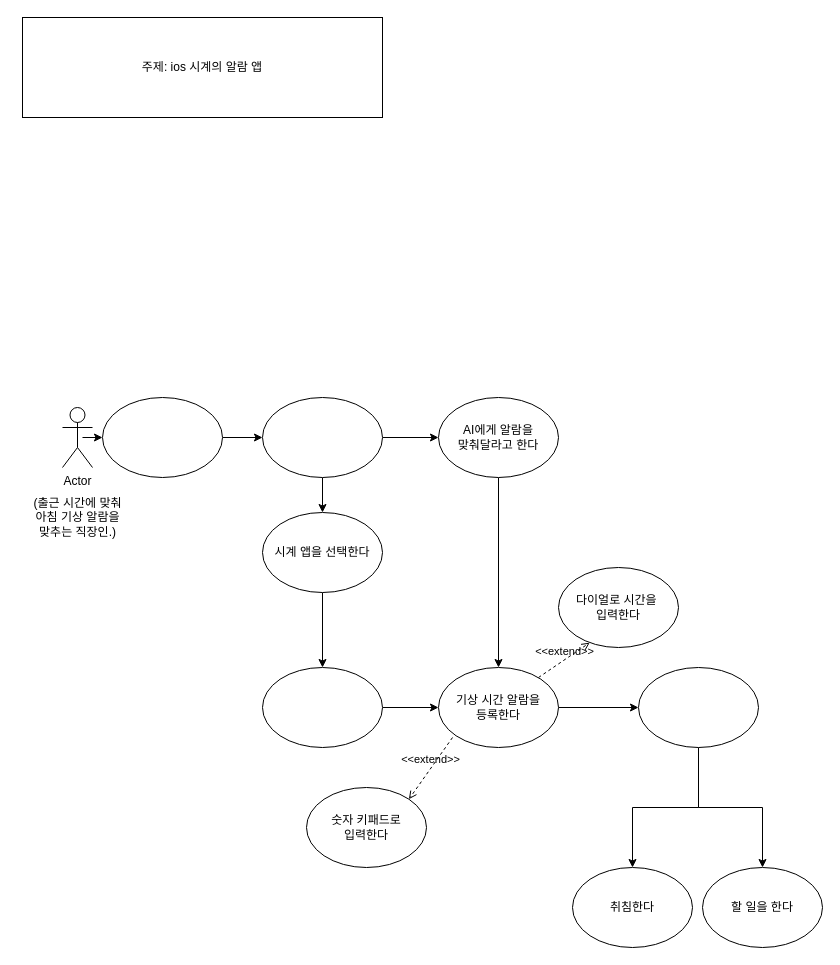
Image size: 840x965. Some labels were removed from this diagram. Here are the shapes that lost their labels. From the top down, the centre of each, then its label:
the point at 162,437: 기상 시간을 확인한다
the point at 322,437: 핸드폰 화면을 켠다
the point at 322,707: 알람 기능을 사용한다
the point at 698,707: 핸드폰 화면을 끈다
